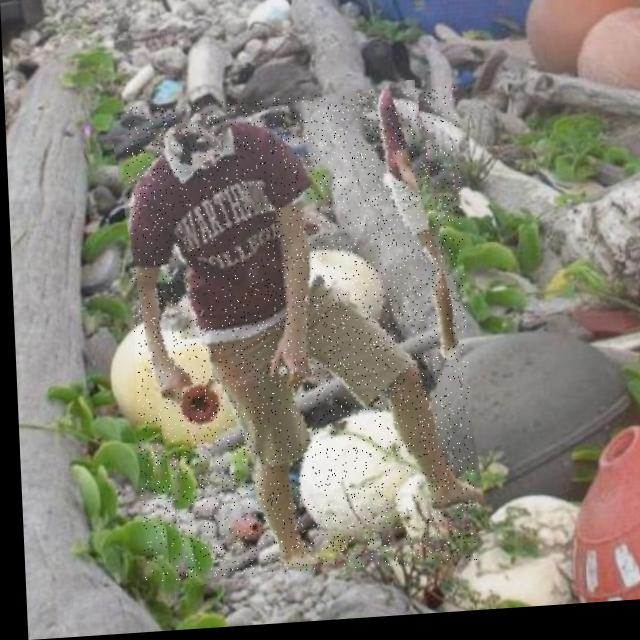Person in Rubble: (123, 92, 472, 584)
